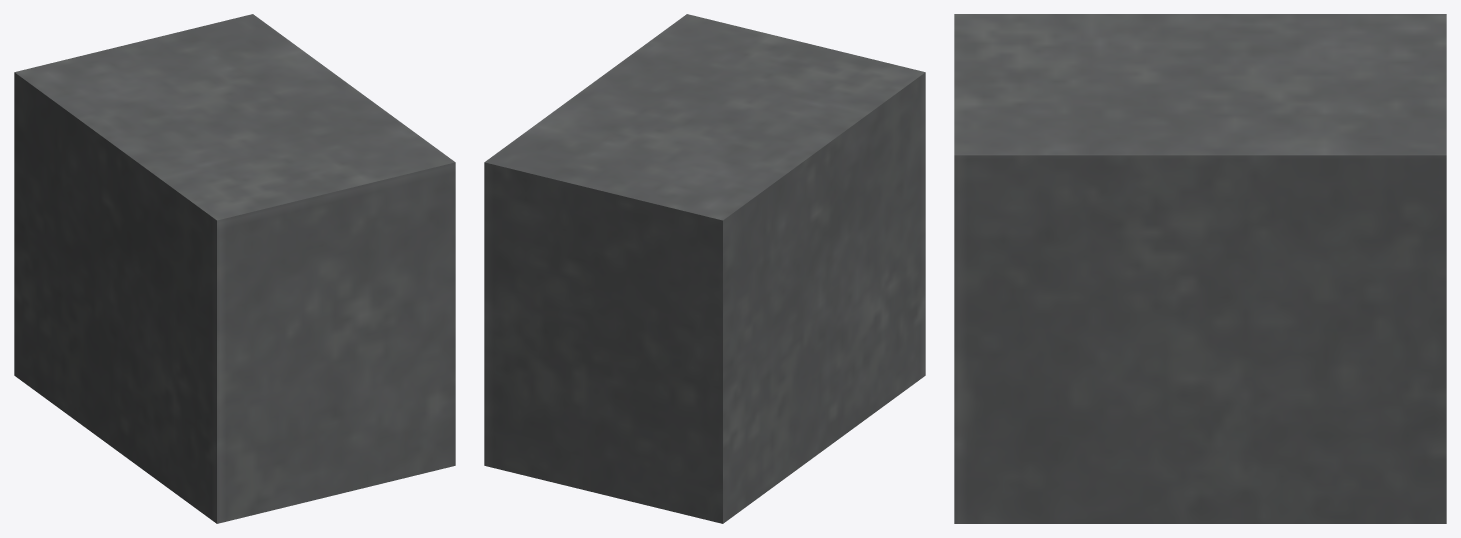
Rendered from mini filar.fbx.
3 renders of one model, left to right at view 1: azimuth 30°, elevation 25°; view 2: azimuth 150°, elevation 25°; view 3: azimuth 270°, elevation 25°, orthographic. The views are drawn at different scales.
Visible parts, largest first — view 1: Plane.027; view 2: Plane.027; view 3: Plane.027.
Part boxes in pixels (left/top/right/bottom): Plane.027: left=14, top=14, right=455, bottom=523; Plane.027: left=484, top=14, right=925, bottom=523; Plane.027: left=954, top=14, right=1446, bottom=523.
Size of the model in its own units: 40.44 by 49.14 by 59.49.
